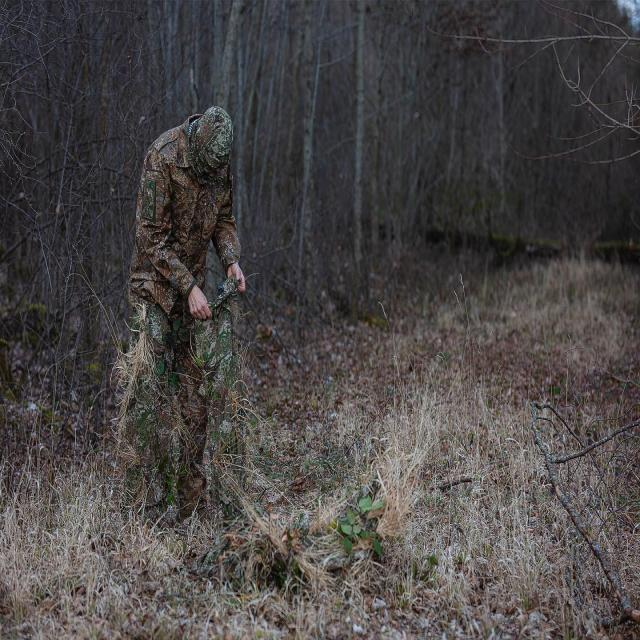Human: (120, 107, 243, 528)
